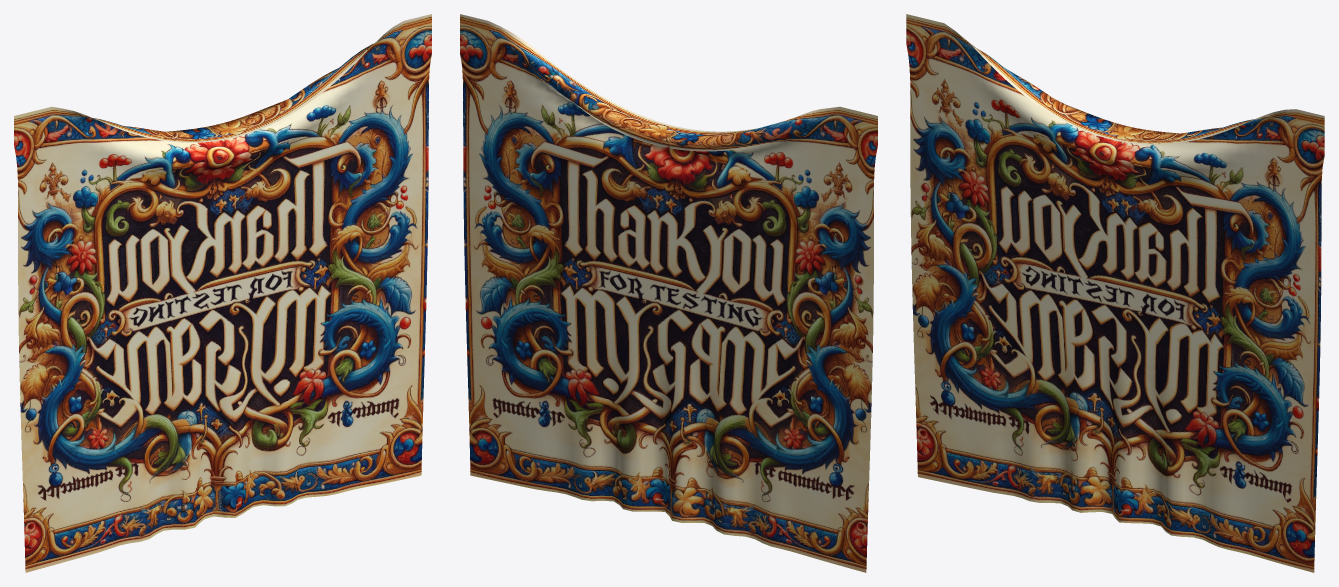
File: thank_you_note.gltf
3 renders of one model, left to right at view 1: azimuth 30°, elevation 25°; view 2: azimuth 150°, elevation 25°; view 3: azimuth 330°, elevation 25°, orthographic.
Visible parts, largest first — view 1: Plane; view 2: Plane; view 3: Plane.
Part boxes in pixels (left/top/right/bottom): Plane: left=14, top=14, right=431, bottom=572; Plane: left=460, top=14, right=877, bottom=572; Plane: left=906, top=14, right=1324, bottom=572.
Bounding box in the file's own units: 2 × 2.1 × 0.1367.
1 material, 1 textured.
